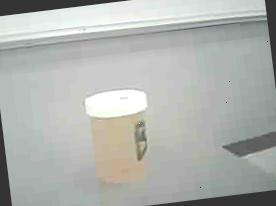Bottle B: (71, 72, 169, 198)
